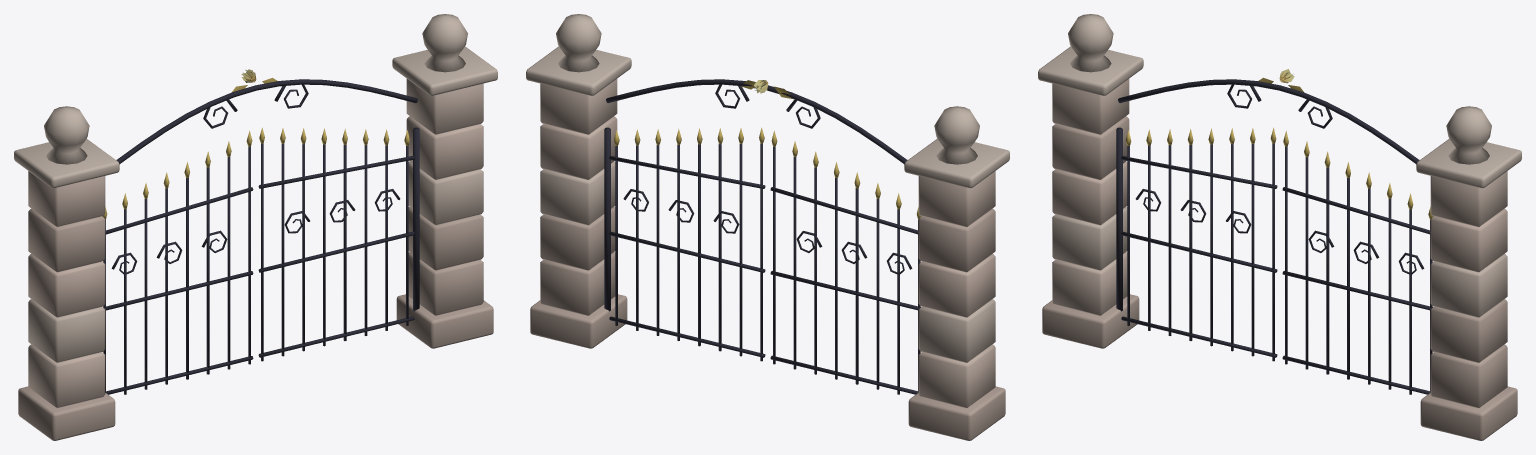
Rendered from estate_gate.glb.
3 renders of one model, left to right at view 1: azimuth 30°, elevation 25°; view 2: azimuth 150°, elevation 25°; view 3: azimuth 330°, elevation 25°, orthographic.
Visible parts, largest first — view 1: estate_gate; view 2: estate_gate; view 3: estate_gate.
Part boxes in pixels (x1,y1,x2,y2): estate_gate: (14,14,497,440); estate_gate: (526,14,1009,440); estate_gate: (1038,14,1521,440).
Size of what is drawn, in the model's own units: 4.96 by 3.32 by 0.76.
